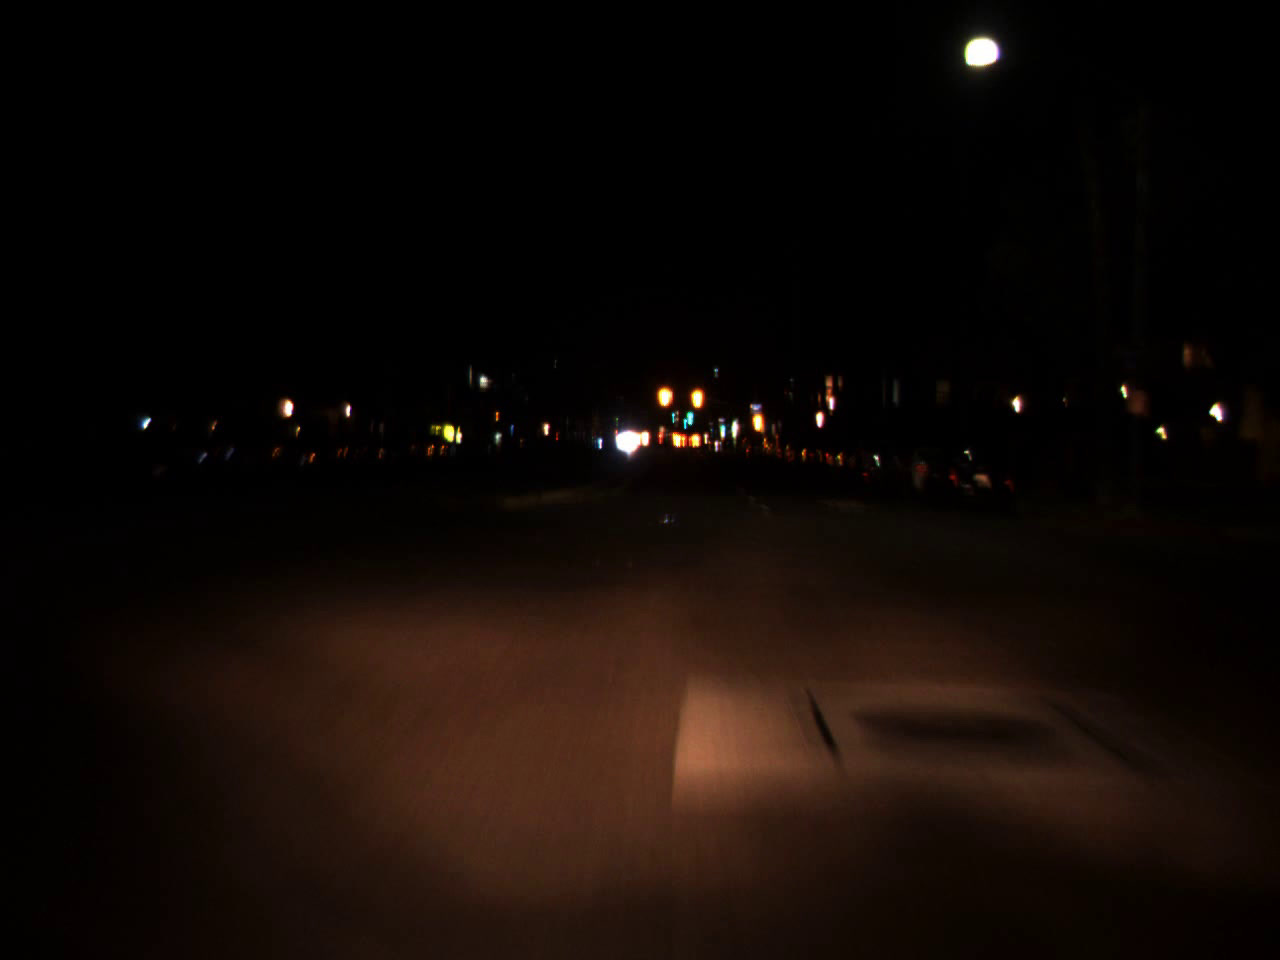go: (684, 401, 694, 422), (719, 418, 726, 433)
warning: (749, 397, 767, 444), (687, 375, 706, 419), (656, 376, 672, 416)
